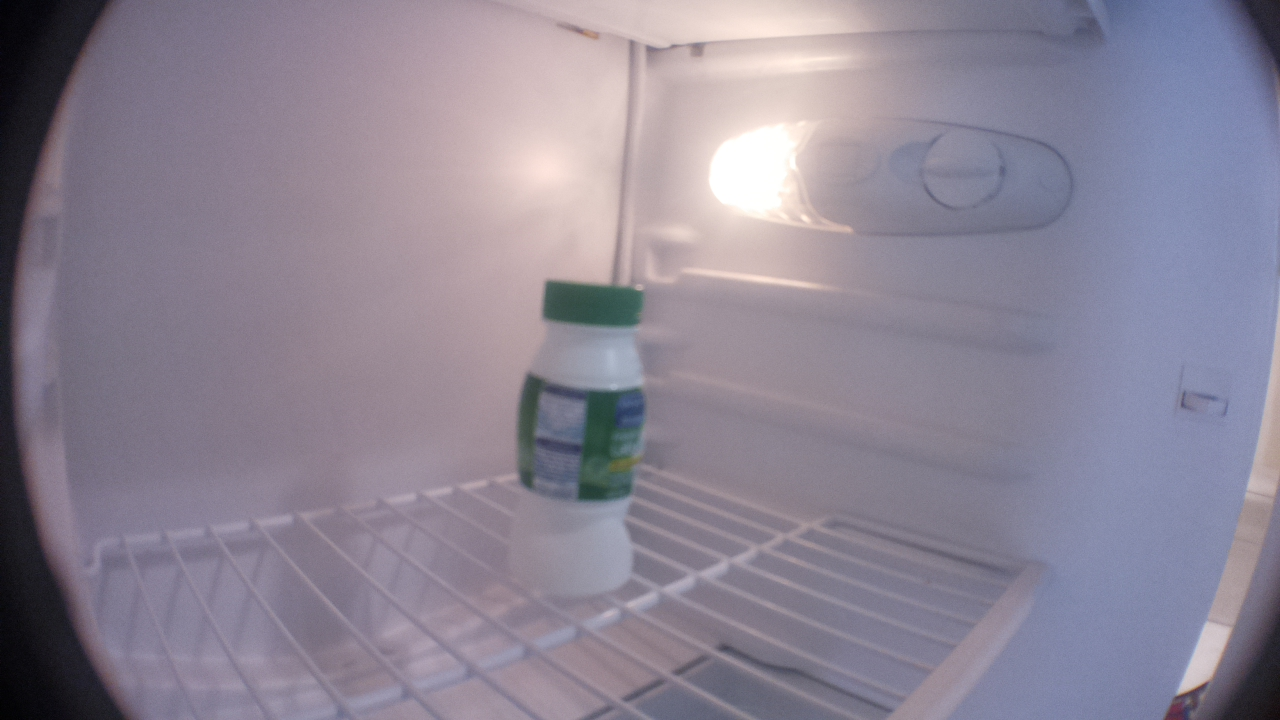laban: (508, 279, 652, 600)
